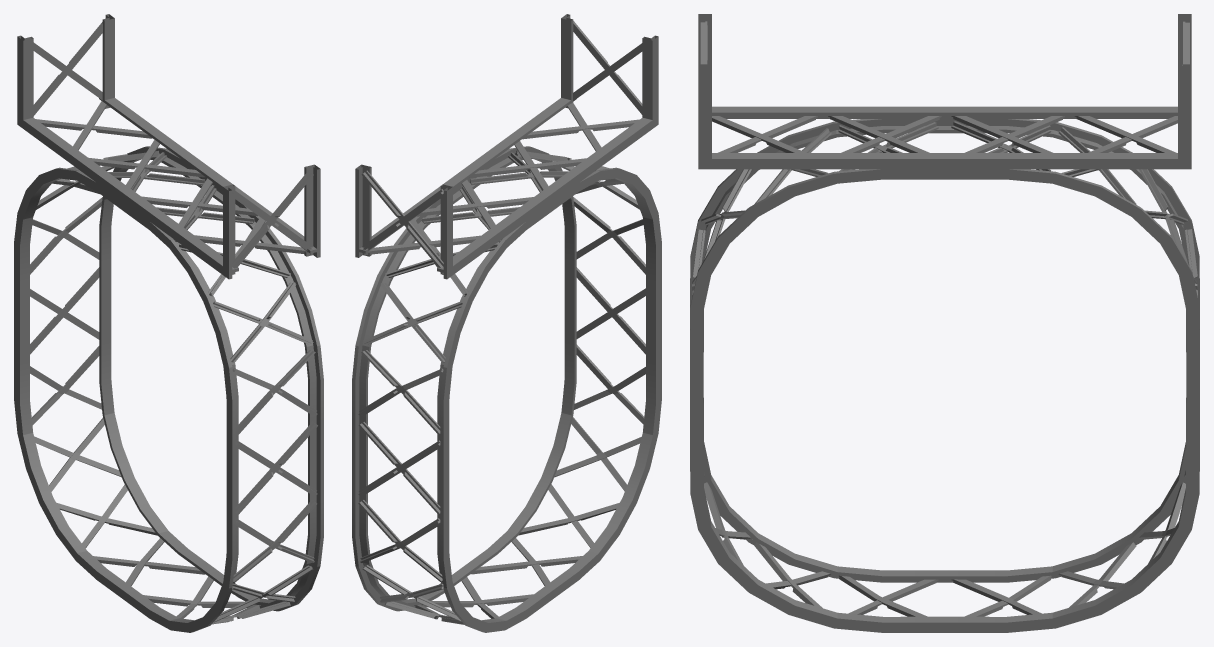
File: tesla_structure_pipe_arch_01.dae
3 renders of one model, left to right at view 1: azimuth 30°, elevation 25°; view 2: azimuth 150°, elevation 25°; view 3: azimuth 270°, elevation 25°, orthographic. The views are drawn at different scales.
Visible parts, largest first — view 1: polySurface364; view 2: polySurface364; view 3: polySurface364.
Boxes of the visible parts, x1=… form: polySurface364: x1=14, y1=14, x2=323, y2=632; polySurface364: x1=352, y1=14, x2=661, y2=632; polySurface364: x1=690, y1=14, x2=1199, y2=632.
Bounding box in the file's own units: 1500 × 7602 × 6196.
